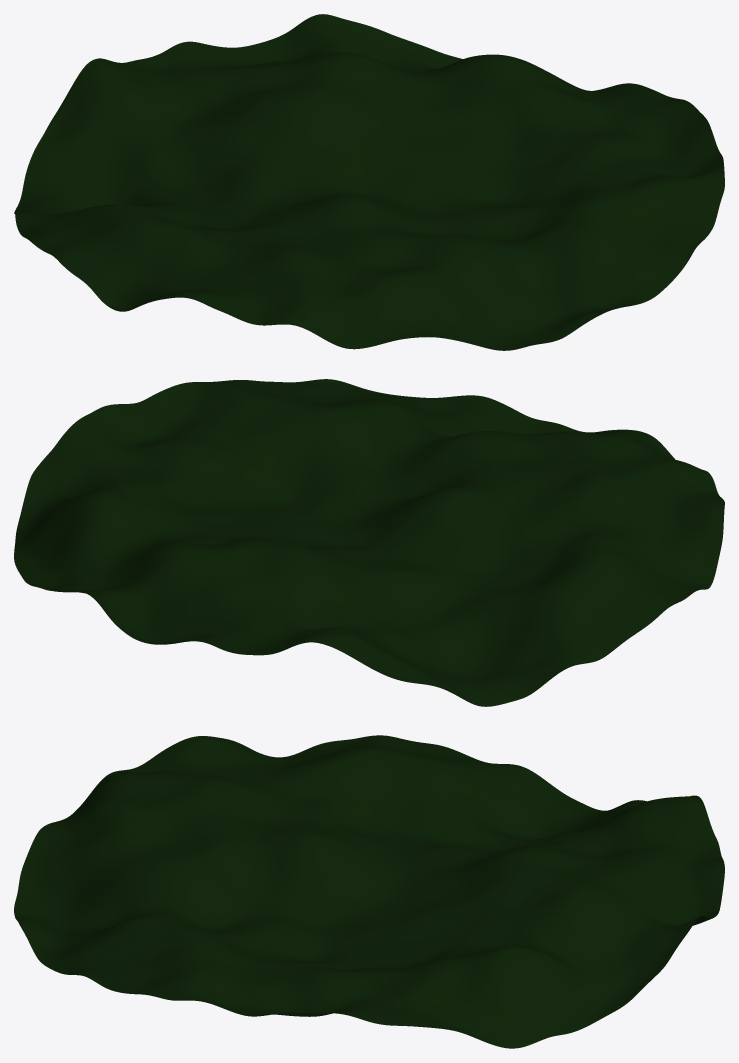
Rendered from Goo.fbx.
3 views of the same model, one above another, from view 1: azimuth 30°, elevation 25°; view 2: azimuth 150°, elevation 25°; view 3: azimuth 270°, elevation 25° (orthographic).
Visible parts, largest first — view 1: Liquid; view 2: Liquid; view 3: Liquid.
Boxes of the visible parts, <box> form: Liquid: <box>14,14,724,350</box>; Liquid: <box>14,379,724,706</box>; Liquid: <box>14,735,724,1048</box>.
Size of the model in its own units: 119 by 13.93 by 119.
